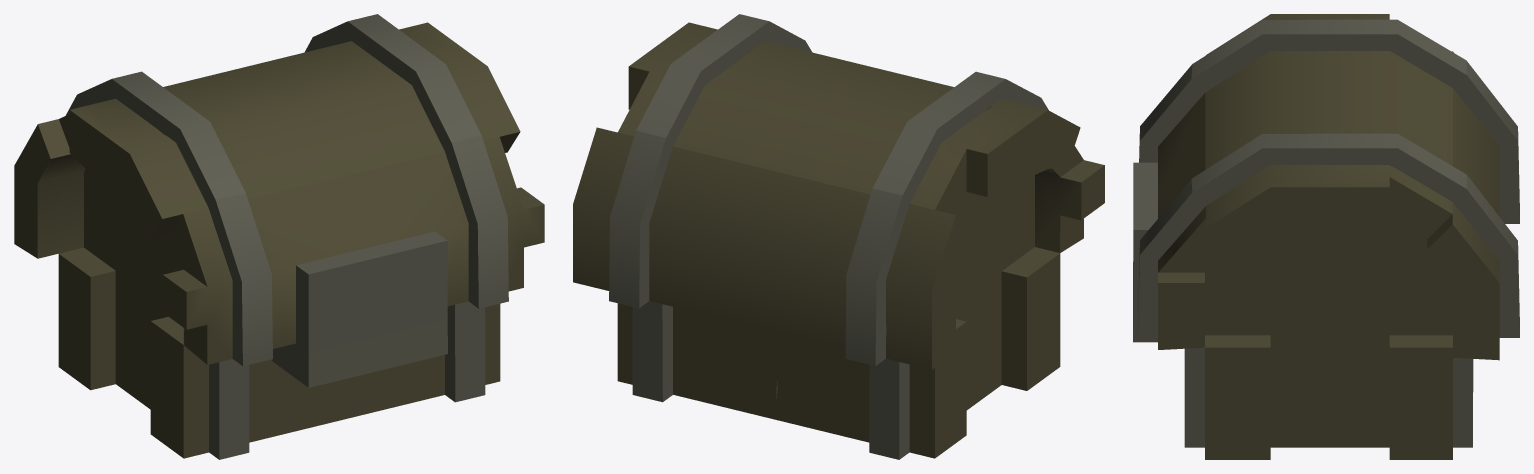
Rendered from AssetCofre.fbx.
3 renders of one model, left to right at view 1: azimuth 30°, elevation 25°; view 2: azimuth 150°, elevation 25°; view 3: azimuth 270°, elevation 25°, orthographic.
Visible parts, largest first — view 1: Cofre1; view 2: Cofre1; view 3: Cofre1.
Part boxes in pixels (bbox=[...]): Cofre1: bbox=[14, 14, 544, 459]; Cofre1: bbox=[573, 14, 1104, 459]; Cofre1: bbox=[1133, 14, 1519, 459].
Size of the model in its own units: 3.86 by 3.11 by 3.64.
